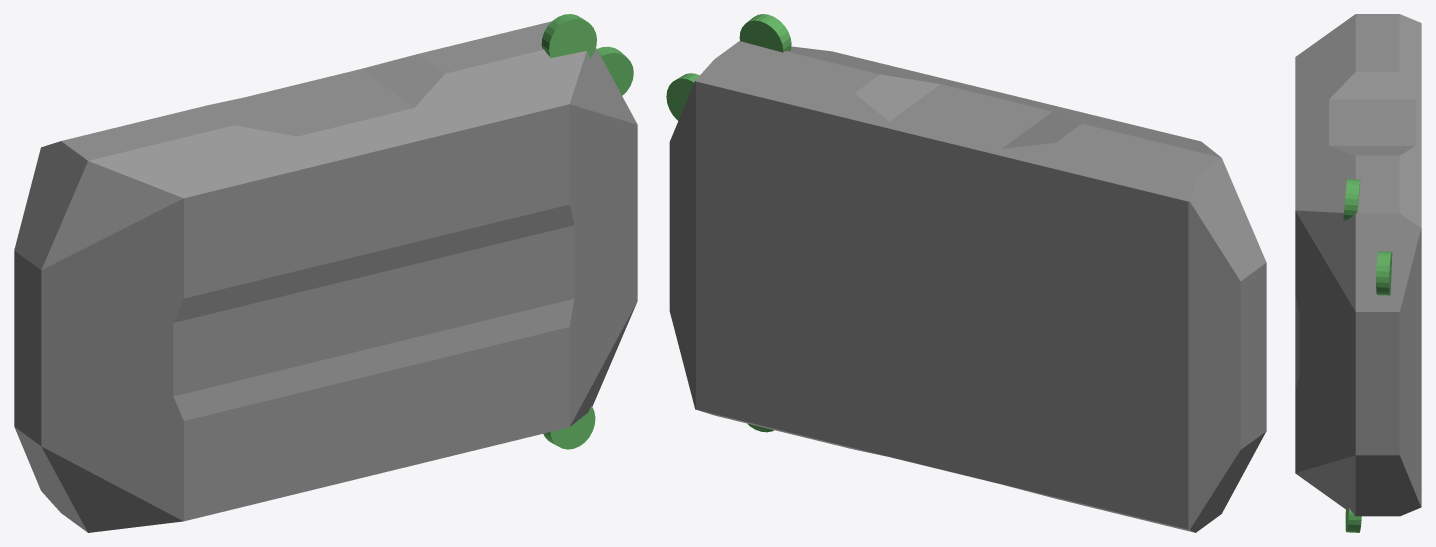
Rendered from rbvogui_xl_policy_bo32.glb.
3 renders of one model, left to right at view 1: azimuth 30°, elevation 25°; view 2: azimuth 150°, elevation 25°; view 3: azimuth 270°, elevation 25°, orthographic. The views are drawn at different scales.
Parts seen in each view (by area): view 1: rbvogui_xl_chassis.stl, world; view 2: rbvogui_xl_chassis.stl, world; view 3: rbvogui_xl_chassis.stl, world.
Part boxes in pixels (left/top/right/bottom): rbvogui_xl_chassis.stl: left=14, top=21, right=637, bottom=532; world: left=541, top=14, right=633, bottom=449; rbvogui_xl_chassis.stl: left=669, top=41, right=1266, bottom=532; world: left=666, top=14, right=791, bottom=432; rbvogui_xl_chassis.stl: left=1295, top=14, right=1421, bottom=516; world: left=1343, top=178, right=1392, bottom=532.
Bounding box in the file's own units: 1.29 × 0.8782 × 0.2879.
